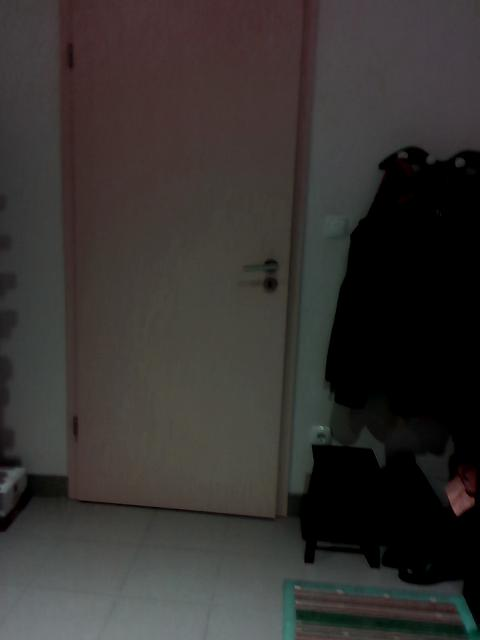closed_door: (61, 1, 313, 517)
